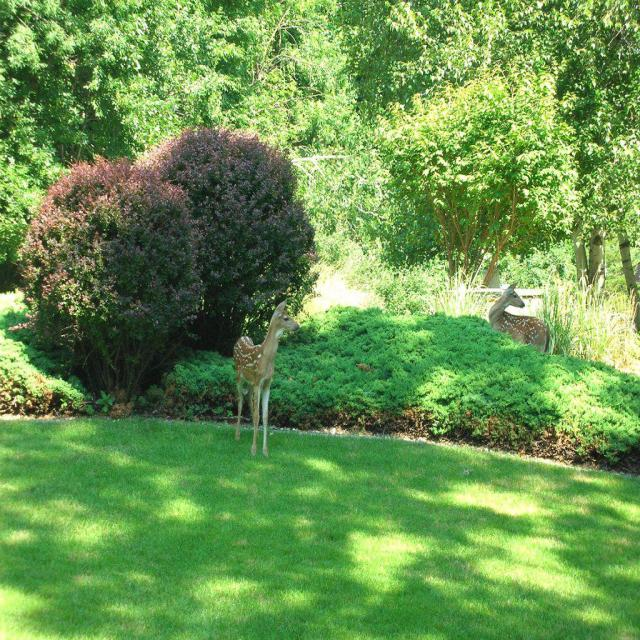Deer: (232, 298, 300, 458), (490, 282, 552, 354)
